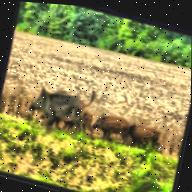boar: (13, 73, 99, 151), (87, 102, 133, 148), (125, 110, 159, 151)
